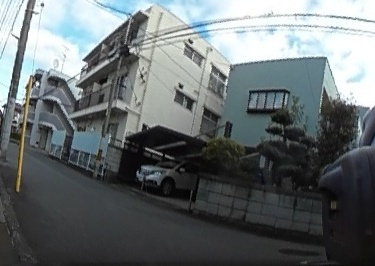person: (360, 38, 375, 266)
